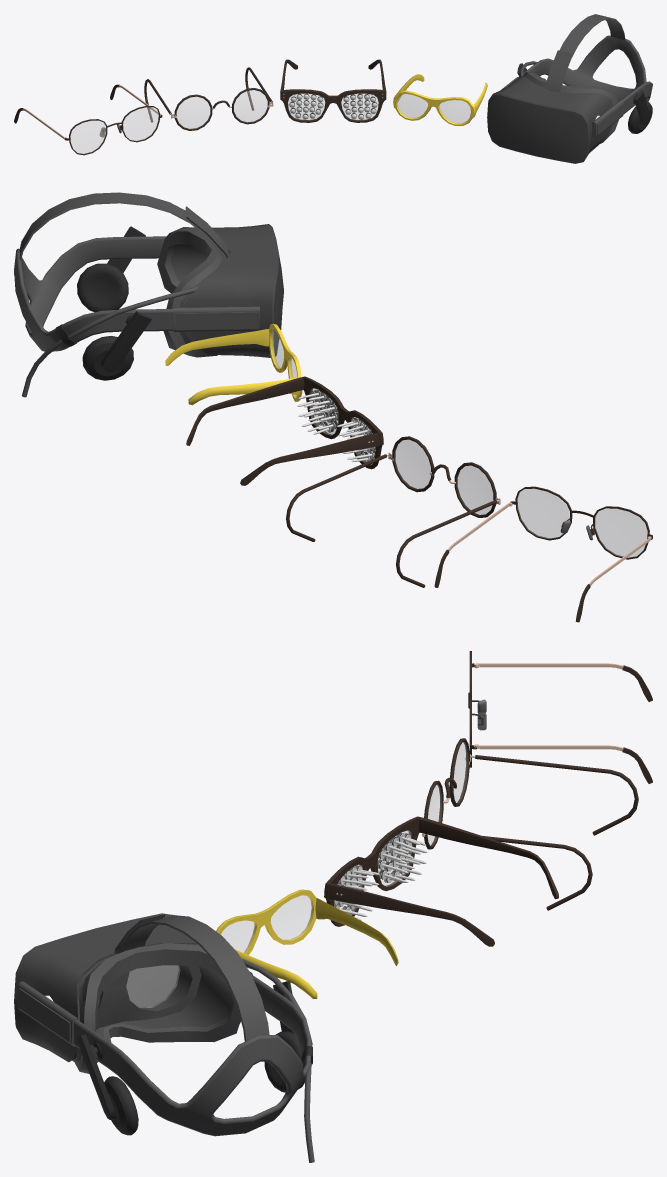
Rendered from glasses.glb.
3 views of the same model, one above another, from view 1: azimuth 30°, elevation 25°; view 2: azimuth 150°, elevation 25°; view 3: azimuth 270°, elevation 25° (orthographic). The views are drawn at different scales.
Visible parts, largest first — view 1: Plane.002_64, Circle.060_69, Plane.001_9, Circle.001_0, Circle.062_71, Circle.013_19, Circle.056_63, Circle.012_20, Circle.054_61, Circle.057_66, Circle.007_7, Circle.004_3 (+6 smaller); view 2: Plane.002_64, Circle.060_69, Plane.001_9, Circle.064_73, Circle.062_71, Circle.001_0, Circle.015_22, Circle.057_66, Circle.055_62, Circle.063_72, Circle.004_3, Circle.013_19 (+4 smaller); view 3: Plane.002_64, Circle.060_69, Circle.062_71, Circle.015_22, Circle.056_63, Circle.064_73, Circle.004_3, Circle.055_62, Plane.003_65, Circle.057_66, Circle.013_19, Circle.054_61 (+5 smaller).
Part boxes in pixels (x1,y1,x2,y2): Plane.002_64: (487, 72, 619, 163); Circle.060_69: (519, 35, 652, 113); Plane.001_9: (70, 107, 158, 153); Circle.001_0: (177, 90, 267, 128); Circle.062_71: (544, 14, 625, 92); Circle.013_19: (280, 89, 386, 122); Circle.056_63: (397, 94, 470, 123); Circle.012_20: (288, 94, 378, 120); Circle.054_61: (393, 90, 475, 125); Circle.057_66: (501, 77, 623, 137); Circle.007_7: (174, 88, 269, 130); Circle.004_3: (144, 67, 272, 122); Plane.002_64: (157, 224, 283, 357); Circle.060_69: (14, 236, 173, 351); Plane.001_9: (517, 489, 647, 557); Circle.064_73: (77, 263, 133, 380); Circle.062_71: (19, 192, 228, 260); Circle.001_0: (394, 440, 492, 514); Circle.015_22: (186, 377, 379, 485); Circle.057_66: (173, 306, 259, 331); Circle.055_62: (165, 329, 296, 405); Circle.063_72: (100, 226, 152, 371); Circle.004_3: (286, 454, 496, 587); Circle.013_19: (302, 376, 383, 469); Plane.002_64: (14, 913, 240, 1073); Circle.060_69: (73, 974, 311, 1136); Circle.062_71: (114, 914, 269, 1041); Circle.015_22: (328, 817, 558, 946); Circle.056_63: (221, 895, 313, 953); Circle.064_73: (104, 1031, 305, 1135); Circle.004_3: (475, 755, 638, 910); Circle.055_62: (234, 899, 398, 998); Plane.003_65: (98, 965, 180, 1007); Circle.057_66: (18, 971, 252, 1046); Circle.013_19: (324, 816, 421, 926); Circle.054_61: (216, 889, 318, 955).
Size of the model in its own units: 30.76 by 6.95 by 19.3.
